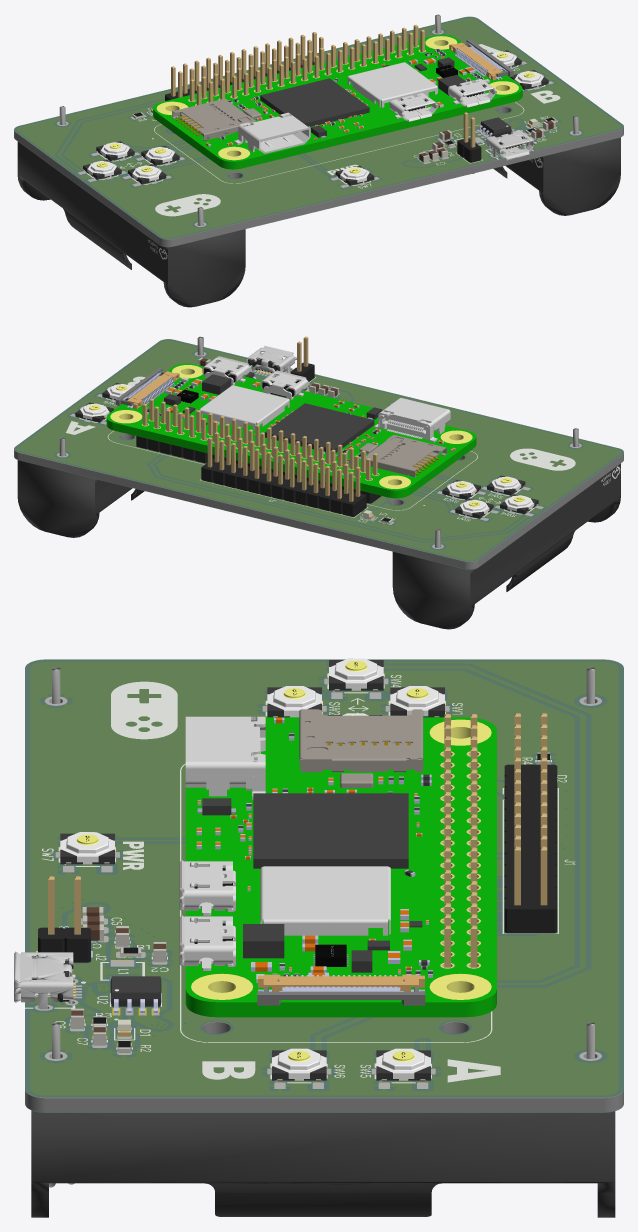
Rendered from Zero Console.glb.
3 views of the same model, one above another, from view 1: azimuth 30°, elevation 25°; view 2: azimuth 150°, elevation 25°; view 3: azimuth 270°, elevation 25° (orthographic). The views are drawn at different scales.
Parts seen in each view (by area): view 1: =>[0:1:1:17], =>[0:1:1:13], NAUO1, BT1, =>[0:1:1:18], BT2, U1, NAUO2, J1, NAUO5, =>[0:1:1:16], NAUO10 (+14 smaller); view 2: =>[0:1:1:17], =>[0:1:1:13], BT1, NAUO1, J1, =>[0:1:1:18], BT2, U1, NAUO2, NAUO5, NAUO10, NAUO4 (+13 smaller); view 3: =>[0:1:1:17], =>[0:1:1:13], BT2, NAUO1, =>[0:1:1:18], NAUO2, J1, NAUO5, =>[0:1:1:16], NAUO4, NAUO10, NAUO9 (+15 smaller).
Part boxes in pixels (x1,y1,x2,y2): =>[0:1:1:17]: (14,16,623,247); =>[0:1:1:13]: (17,18,620,237); NAUO1: (153,34,522,169); BT1: (17,106,245,307); =>[0:1:1:18]: (14,17,623,246); BT2: (435,14,620,215); U1: (190,24,424,105); NAUO2: (260,78,369,126); J1: (165,32,323,100); NAUO5: (347,62,437,107); =>[0:1:1:16]: (87,44,560,216); NAUO10: (234,112,310,153); =>[0:1:1:17]: (14,339,623,569); =>[0:1:1:13]: (17,341,620,560); BT1: (392,428,620,629); NAUO1: (106,363,476,498); J1: (201,432,366,516); =>[0:1:1:18]: (14,340,623,569); BT2: (17,336,203,537); U1: (136,398,381,503); NAUO2: (265,403,374,452); NAUO5: (199,385,289,430); NAUO10: (374,398,450,442); NAUO4: (366,435,446,477); =>[0:1:1:17]: (25,659,623,1112); =>[0:1:1:13]: (31,662,617,1095); BT2: (31,1022,615,1217); NAUO1: (185,717,496,1017); =>[0:1:1:18]: (25,660,623,1112); NAUO2: (253,793,408,868); J1: (504,713,557,933); NAUO5: (260,866,390,935); =>[0:1:1:16]: (25,673,575,1083); NAUO4: (299,709,423,772); NAUO10: (185,716,265,799); NAUO9: (257,974,425,1005).
Bounding box in the file's own units: 0.1 × 0.024 × 0.0588.
